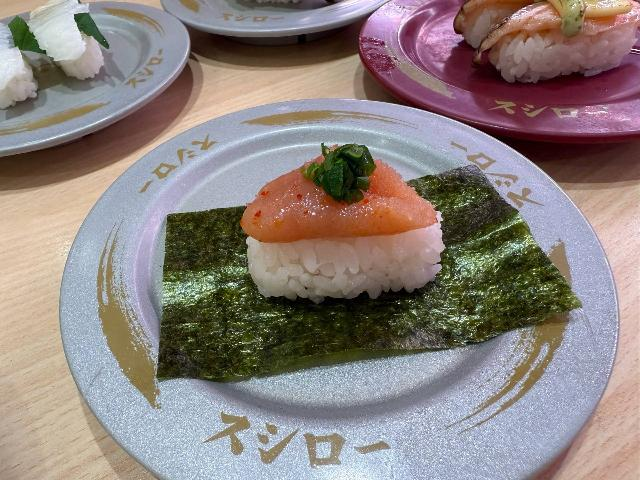janred: (367, 11, 632, 137)
janwhite: (71, 140, 583, 476), (0, 0, 180, 134), (169, 0, 353, 38)
